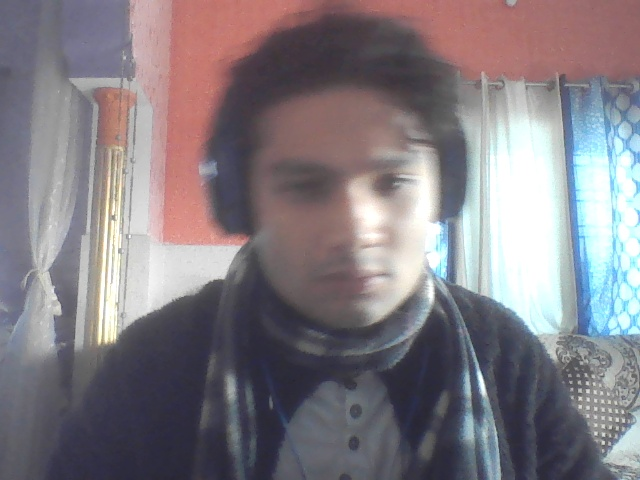real: (220, 6, 466, 354)
